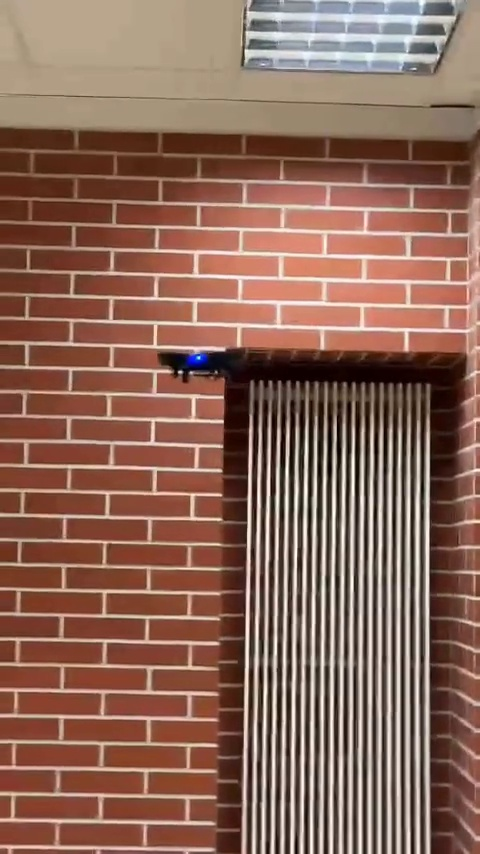drone: (153, 348, 251, 384)
